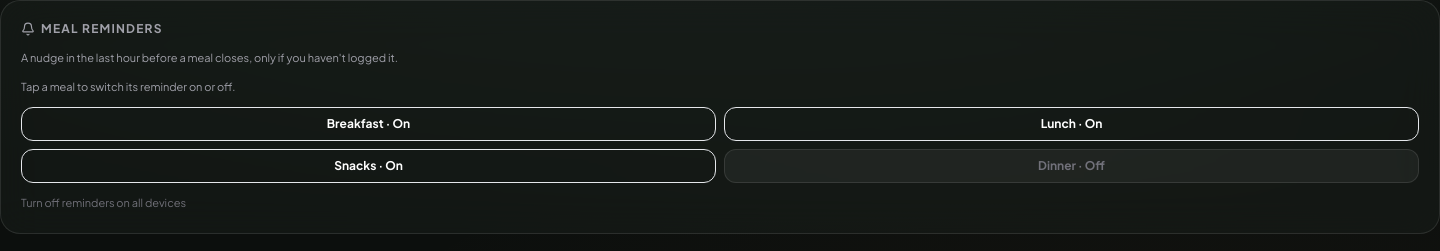
Meal reminder buttons › switches a meal on and saves it
The image size is (1440, 251).
Click the button "dinner · Off" at (1072, 166), box [724,149,1419,183]
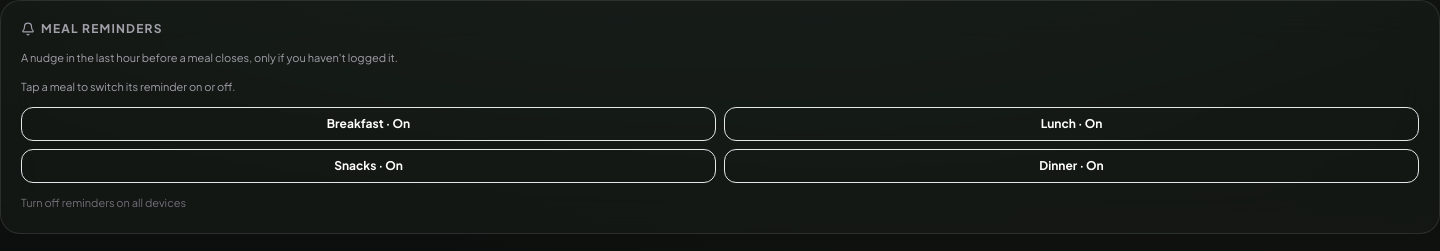
Now the button "dinner · On" is shown, box [724,149,1419,183]
